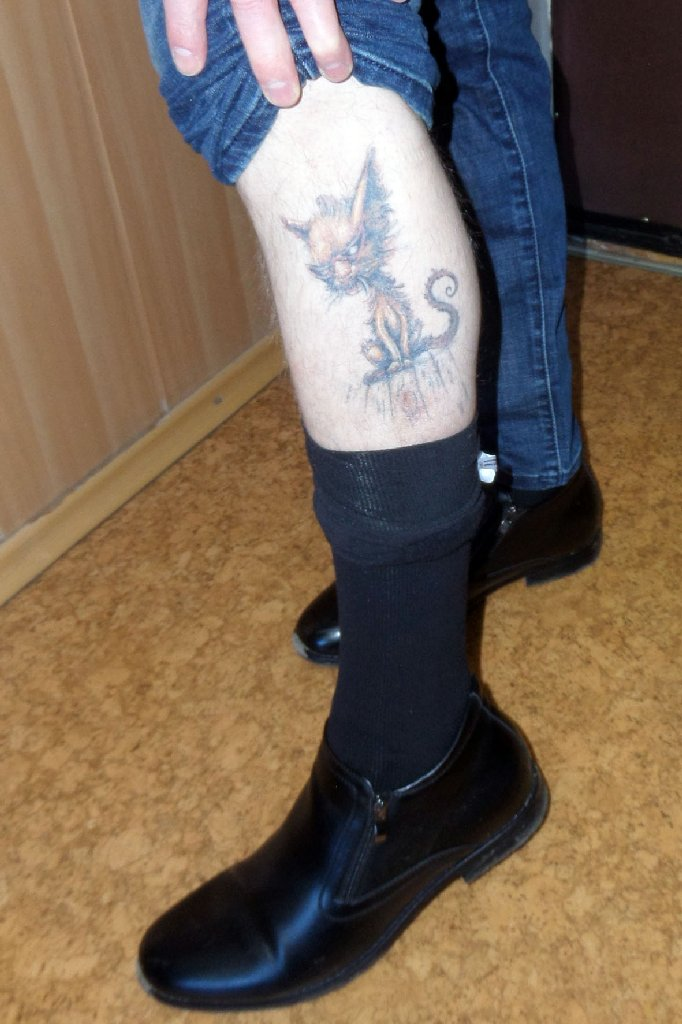tatu8_kot: (267, 160, 486, 409)
